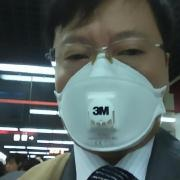Mask: (54, 32, 158, 136)
